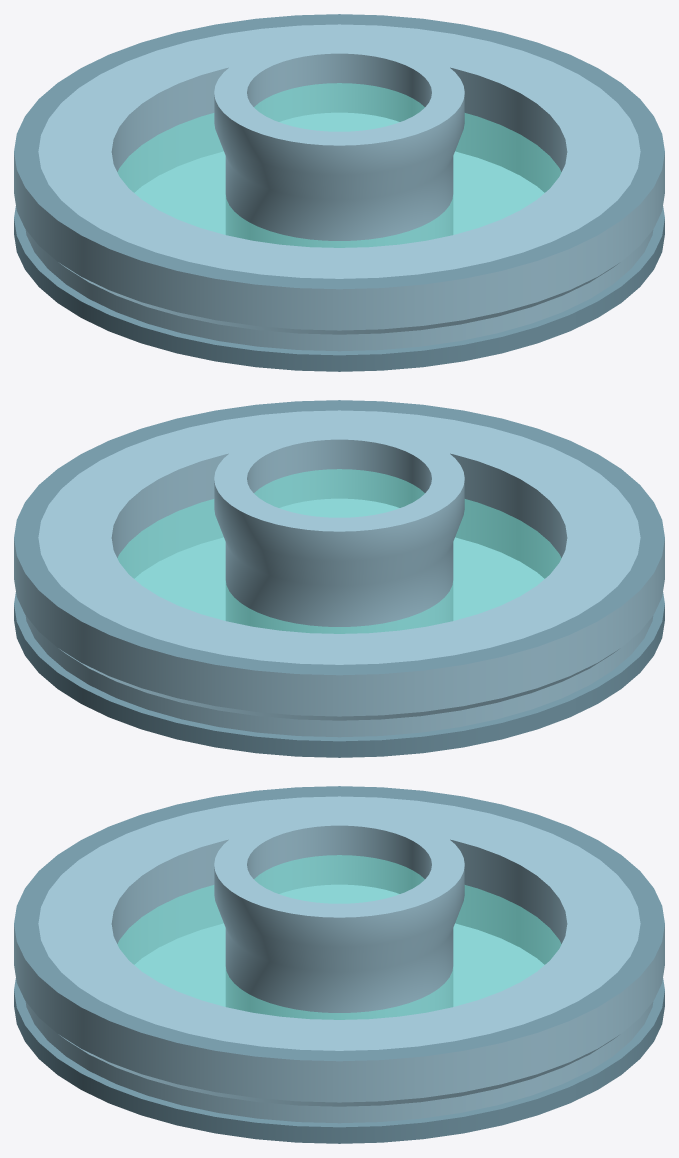
Rendered from fountainRoundDetail.glb.
3 views of the same model, one above another, from view 1: azimuth 30°, elevation 25°; view 2: azimuth 150°, elevation 25°; view 3: azimuth 270°, elevation 25° (orthographic).
Parts seen in each view (by area): view 1: fountainRoundDetail; view 2: fountainRoundDetail; view 3: fountainRoundDetail.
Boxes of the visible parts, bbox=[...] form: fountainRoundDetail: bbox=[14, 14, 664, 371]; fountainRoundDetail: bbox=[14, 400, 664, 757]; fountainRoundDetail: bbox=[14, 786, 664, 1143].
Size of the model in its own units: 6 by 1.44 by 6.
